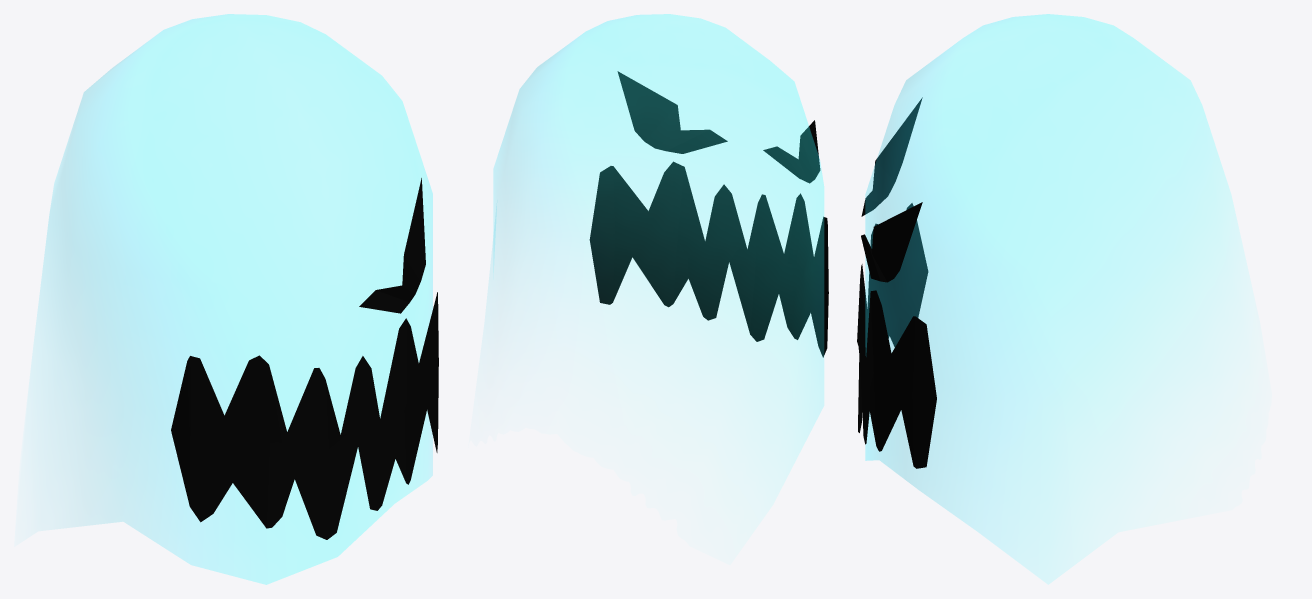
Rendered from ghost_boss.glb.
3 renders of one model, left to right at view 1: azimuth 30°, elevation 25°; view 2: azimuth 150°, elevation 25°; view 3: azimuth 270°, elevation 25°, orthographic. The views are drawn at different scales.
Parts seen in each view (by area): view 1: boss_body, face_angry; view 2: boss_body, face_angry; view 3: boss_body, face_angry.
Part boxes in pixels (x1,y1,x2,y2): boss_body: (37, 14, 432, 584); face_angry: (171, 178, 438, 539); boss_body: (491, 14, 823, 442); face_angry: (589, 71, 828, 357); boss_body: (865, 14, 1233, 572); face_angry: (857, 97, 936, 468).
Size of what is drawn, in the model's own units: 2 by 3.15 by 2.41.
2 materials, 1 textured.
